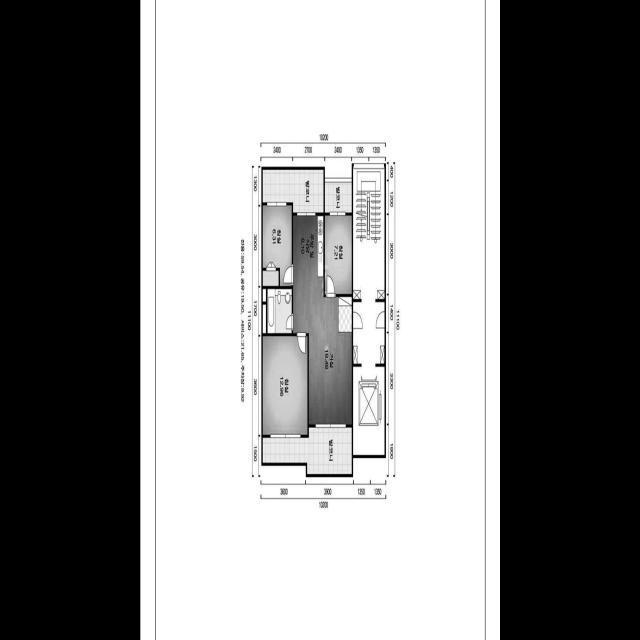background: (140, 0, 500, 640)
space_balconi: (262, 427, 352, 474), (262, 170, 323, 213), (324, 182, 352, 213)
space_bedroom: (262, 336, 307, 435), (262, 205, 292, 286), (324, 216, 352, 294)
space_elevator: (353, 366, 384, 455)
space_elevator_hall: (353, 302, 384, 364)
space_front: (338, 297, 352, 332)
space_kitchen: (293, 216, 323, 297)
space_living_room: (293, 297, 352, 425)
space_other: (262, 304, 266, 334), (262, 289, 266, 302)
space_staircase: (353, 169, 384, 300)
space_toilet: (267, 289, 291, 334)
